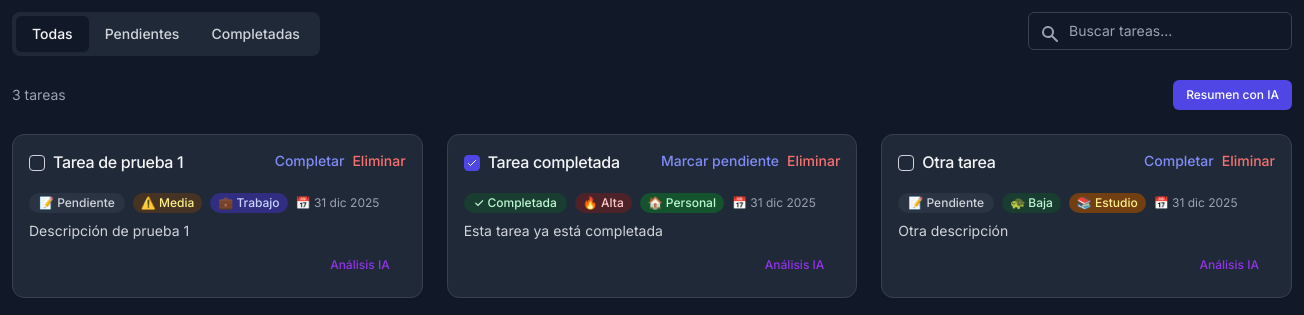
Test: TaskList › shows no results message when no tasks match search
Note: Type in search input with non-matching text
Type "no existe esta tarea" into the field with placeholder "Buscar tareas...".
click(1160, 31); type("no existe esta tarea")  # box [1028, 12, 1292, 50]
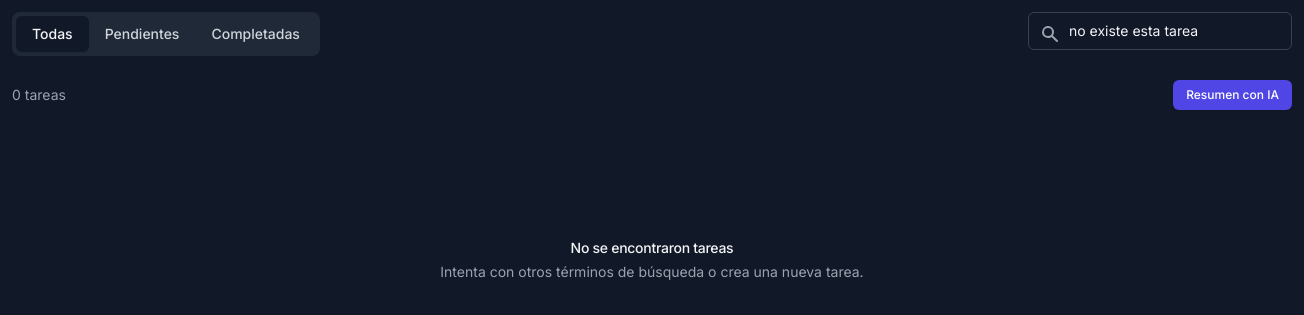
Check: the heading "No se encontraron tareas" is shown, box [571, 239, 733, 256]
